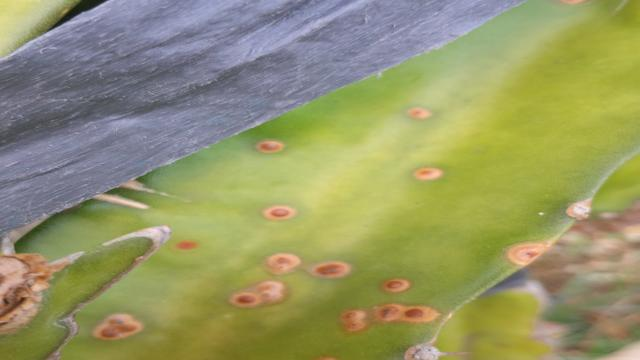stemcanker: (337, 299, 442, 337), (88, 308, 145, 342), (232, 278, 290, 309), (503, 238, 555, 269), (564, 195, 598, 224), (266, 250, 303, 275), (258, 202, 300, 224), (310, 259, 353, 280), (408, 164, 446, 184), (377, 275, 414, 294), (253, 137, 288, 156), (404, 104, 436, 123)
